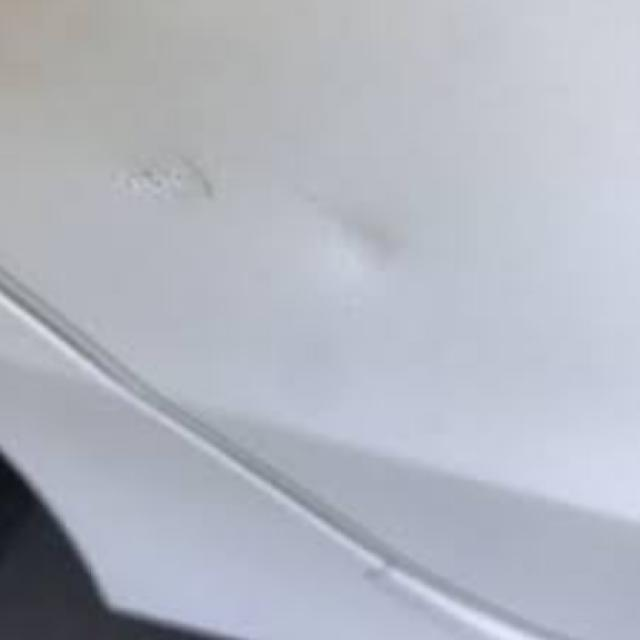dents: (313, 208, 406, 288), (131, 152, 217, 216)
